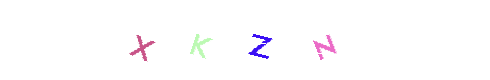K: (192, 0, 272, 80)
N: (220, 0, 300, 80)
X: (158, 0, 238, 80)
Z: (205, 0, 285, 80)
